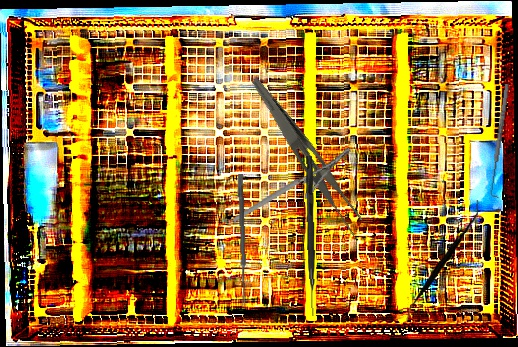Dressing Forceps: (235, 77, 374, 238)
Hook Surgical: (487, 83, 515, 198), (304, 155, 318, 317)
Needle Holder: (222, 145, 362, 223)
Spatula Surgical: (406, 197, 479, 325)
Surgical Spoon: (236, 173, 248, 307)
